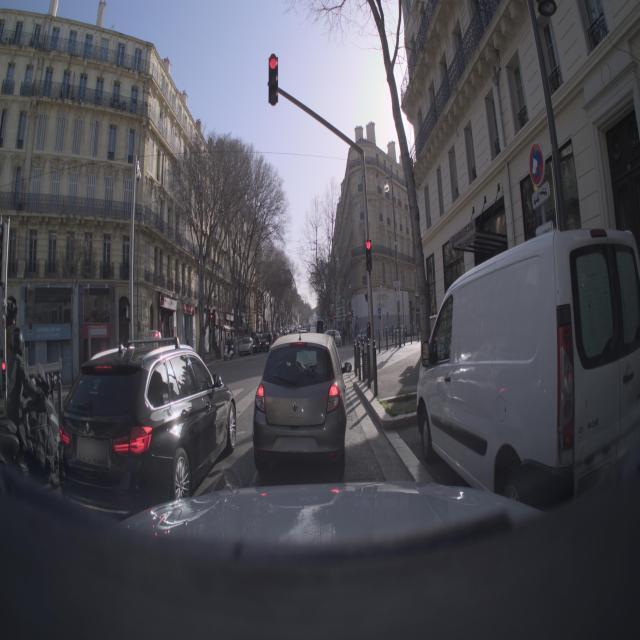red_light: (254, 51, 294, 116), (353, 236, 395, 280)
